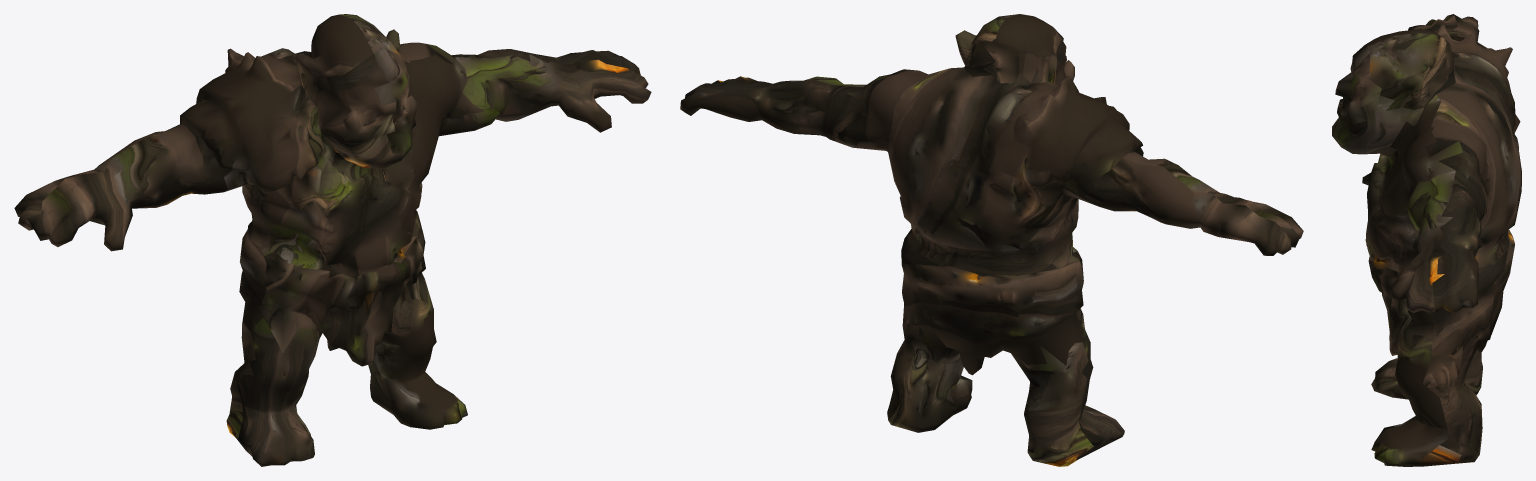
The picture shows the model from 3 angles, left to right: view 1: azimuth 30°, elevation 25°; view 2: azimuth 150°, elevation 25°; view 3: azimuth 270°, elevation 25°; orthographic projection. The views are drawn at different scales.
Parts seen in each view (by area): view 1: UE_Retopo_LOD2; view 2: UE_Retopo_LOD2; view 3: UE_Retopo_LOD2.
Part boxes in pixels (x1,y1,x2,y2): UE_Retopo_LOD2: (14,14,651,466); UE_Retopo_LOD2: (680,14,1303,466); UE_Retopo_LOD2: (1332,14,1521,466).
Bounding box in the file's own units: 3.02 × 1.93 × 0.8514.
